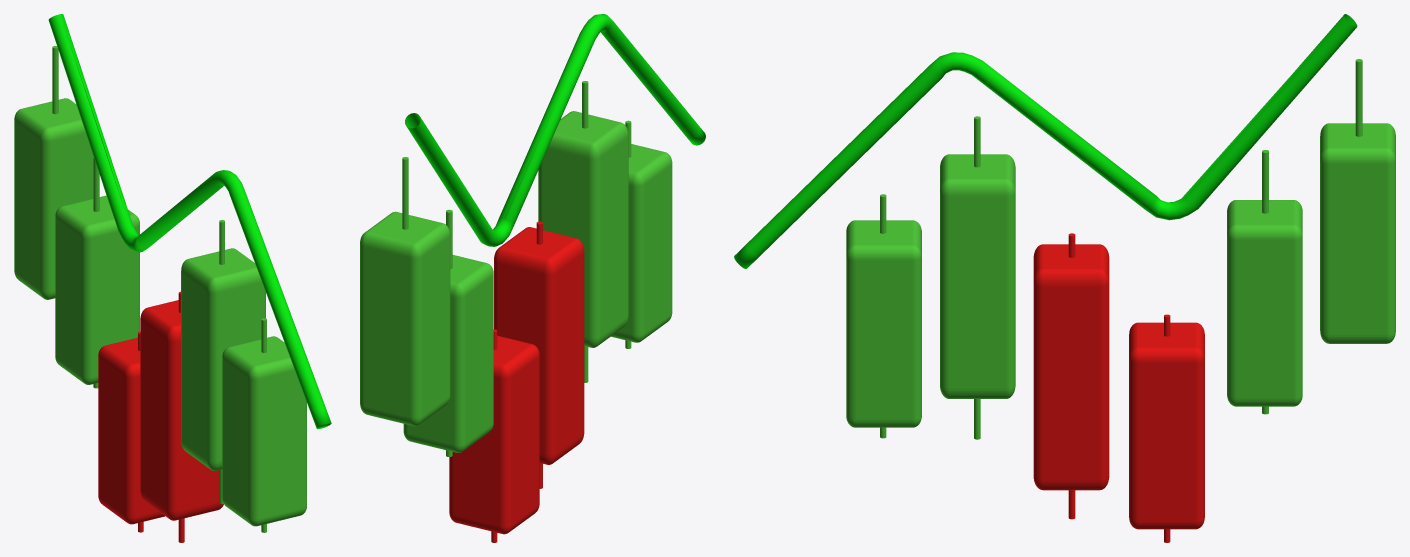
File: stock.glb
3 views of the same model, side by side, from view 1: azimuth 30°, elevation 25°; view 2: azimuth 150°, elevation 25°; view 3: azimuth 270°, elevation 25° (orthographic). The views are drawn at different scales.
Visible parts, largest first — view 1: Cube, Cube.004, Cube.001, Cube.005, Cube.002, Cylinder.006, Cube.003, Cylinder.005, Cylinder.001; view 2: Cube.005, Cube.002, Cube.001, Cube.003, Cylinder.006, Cube.004, Cube, Cylinder.001, Cylinder.005; view 3: Cube.002, Cube.001, Cube.005, Cube, Cube.003, Cube.004, Cylinder.006.
Boxes of the visible parts, <box> form: Cube: <box>222,336,306,526</box>; Cube.004: <box>55,195,139,384</box>; Cube.001: <box>181,248,265,470</box>; Cube.005: <box>14,98,93,299</box>; Cube.002: <box>140,300,223,520</box>; Cylinder.006: <box>48,14,331,429</box>; Cube.003: <box>98,337,164,524</box>; Cylinder.005: <box>52,46,58,114</box>; Cylinder.001: <box>219,220,224,504</box>; Cube.005: <box>360,211,450,426</box>; Cube.002: <box>494,227,584,464</box>; Cube.001: <box>538,111,628,347</box>; Cube.003: <box>449,335,539,534</box>; Cylinder.006: <box>405,14,705,246</box>; Cube.004: <box>403,255,493,452</box>; Cube: <box>611,144,672,342</box>; Cylinder.001: <box>582,81,588,382</box>; Cylinder.005: <box>402,157,408,229</box>; Cube.002: <box>1033,244,1109,490</box>; Cube.001: <box>940,154,1015,398</box>; Cube.005: <box>1320,123,1395,343</box>; Cube: <box>846,220,921,427</box>; Cube.003: <box>1129,322,1204,529</box>; Cube.004: <box>1227,200,1302,406</box>; Cylinder.006: <box>734,14,1357,268</box>.
Size of the model in its own units: 1.53 by 11.59 by 13.26.
